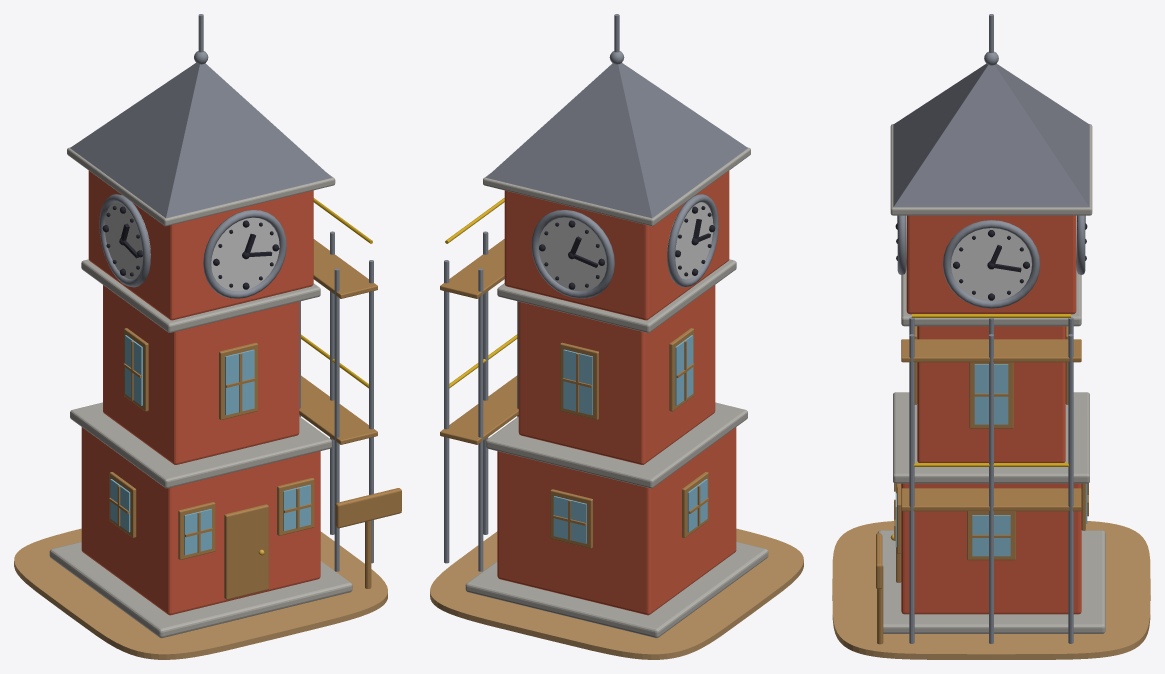
The model's file is clock-tower-stage-3-merged.aed52fb0.glb.
3 views of the same model, side by side, from view 1: azimuth 30°, elevation 25°; view 2: azimuth 150°, elevation 25°; view 3: azimuth 270°, elevation 25° (orthographic). The views are drawn at different scales.
Visible parts, largest first — view 1: ClockTower_Stage3__T_vcol, ClockTower_Stage3__T_brickwall; view 2: ClockTower_Stage3__T_vcol, ClockTower_Stage3__T_brickwall; view 3: ClockTower_Stage3__T_vcol, ClockTower_Stage3__T_brickwall.
Part boxes in pixels (x1=…): ClockTower_Stage3__T_vcol: x1=14, y1=14, x2=401, y2=659; ClockTower_Stage3__T_brickwall: x1=81, y1=171, x2=320, y2=615; ClockTower_Stage3__T_vcol: x1=430, y1=14, x2=803, y2=659; ClockTower_Stage3__T_brickwall: x1=497, y1=171, x2=736, y2=615; ClockTower_Stage3__T_vcol: x1=832, y1=14, x2=1150, y2=659; ClockTower_Stage3__T_brickwall: x1=901, y1=215, x2=1081, y2=614.
Size of the model in its own units: 4.98 by 9.62 by 4.8.
